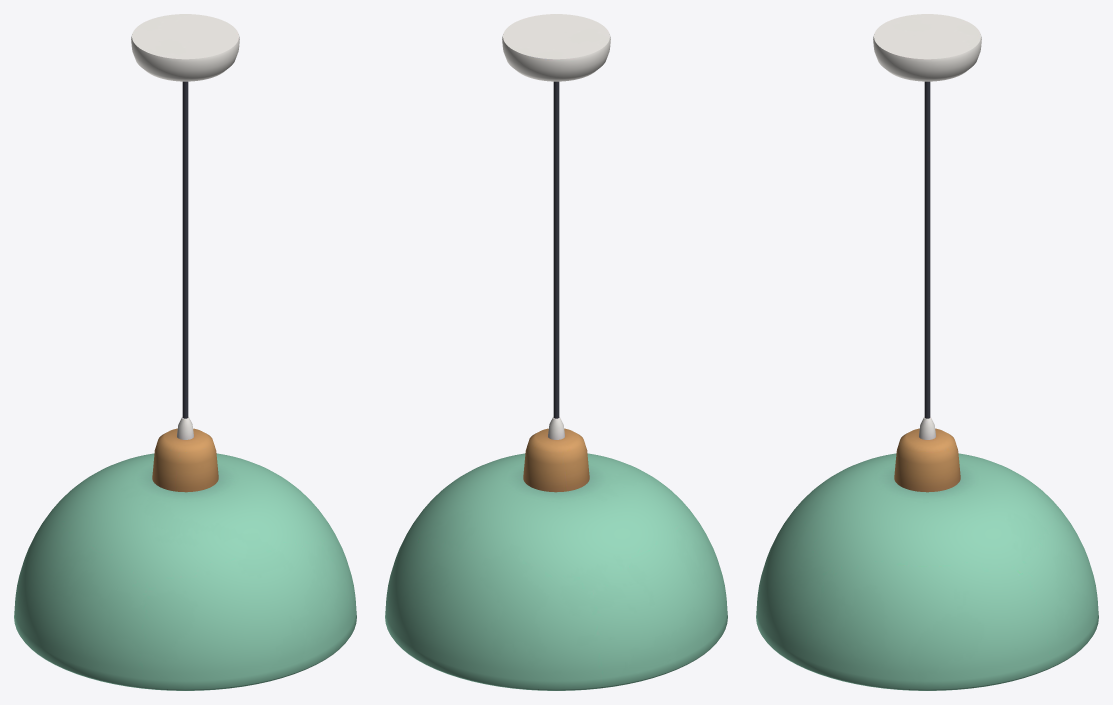
The model's file is ceiling-lamp.obj.
3 views of the same model, side by side, from view 1: azimuth 30°, elevation 25°; view 2: azimuth 150°, elevation 25°; view 3: azimuth 270°, elevation 25° (orthographic).
Parts seen in each view (by area): view 1: ceiling-lamp_body; view 2: ceiling-lamp_body; view 3: ceiling-lamp_body.
Part boxes in pixels (<box>): ceiling-lamp_body: <box>14,14,356,690</box>; ceiling-lamp_body: <box>385,14,727,690</box>; ceiling-lamp_body: <box>756,14,1098,690</box>.
Size of the model in its own units: 0.4226 by 0.7933 by 0.4226.
